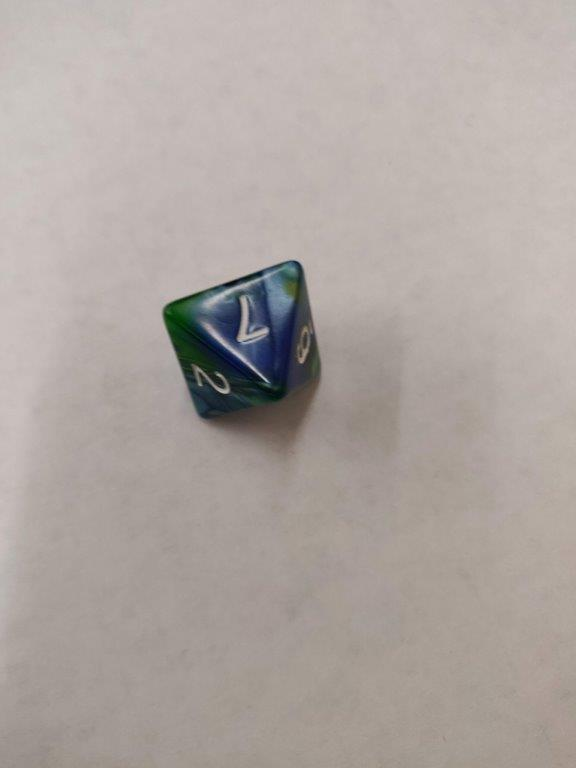d8-7: (162, 261, 321, 418)
